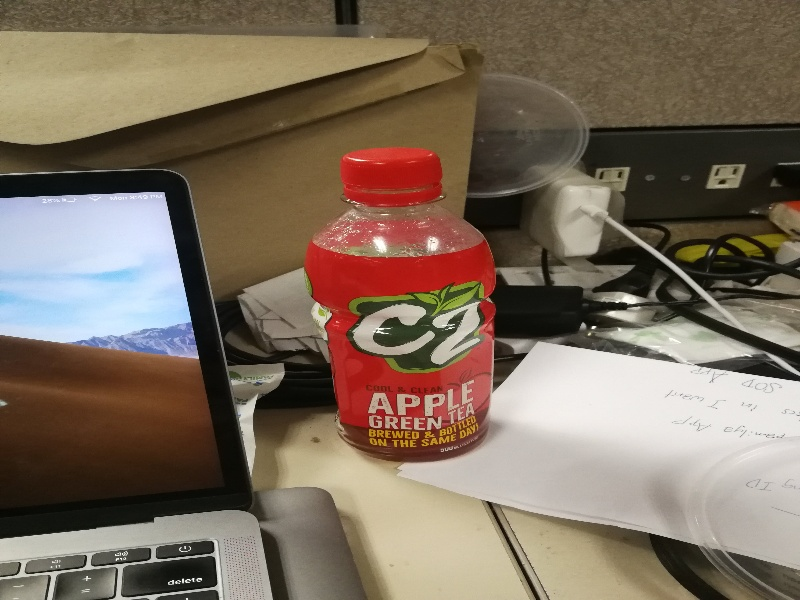PET #1: (306, 147, 497, 459)
